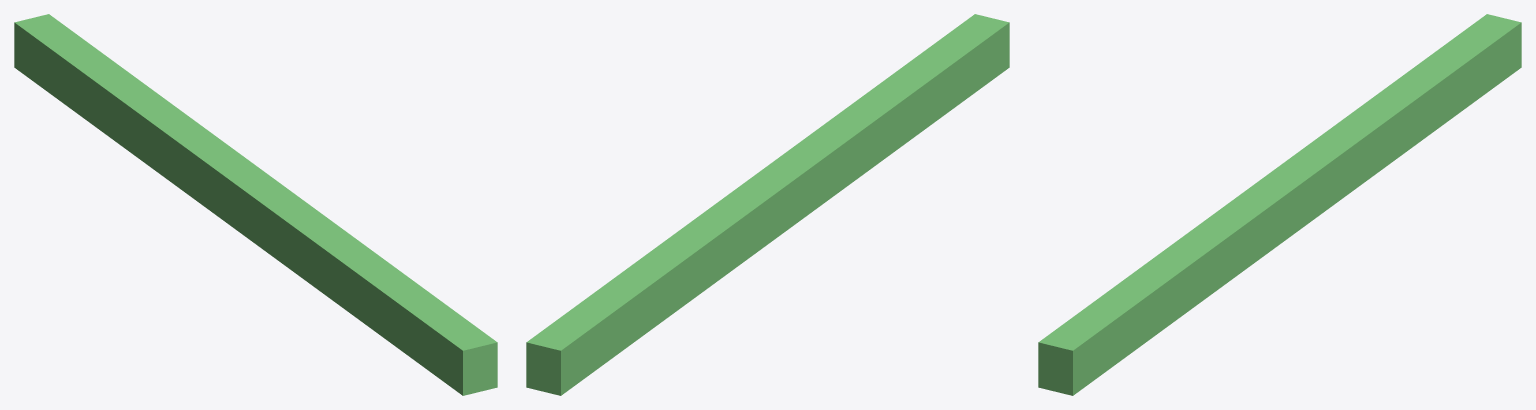
Rendered from Bld3_Deco_Beam_3x.fbx.
3 renders of one model, left to right at view 1: azimuth 30°, elevation 25°; view 2: azimuth 150°, elevation 25°; view 3: azimuth 330°, elevation 25°, orthographic.
Parts seen in each view (by area): view 1: Bld3_Deco_Beam_3x; view 2: Bld3_Deco_Beam_3x; view 3: Bld3_Deco_Beam_3x.
Part boxes in pixels (bbox=[...]): Bld3_Deco_Beam_3x: bbox=[14, 14, 497, 395]; Bld3_Deco_Beam_3x: bbox=[526, 14, 1009, 395]; Bld3_Deco_Beam_3x: bbox=[1038, 14, 1521, 395].
Size of the model in its own units: 40 by 50 by 900.
